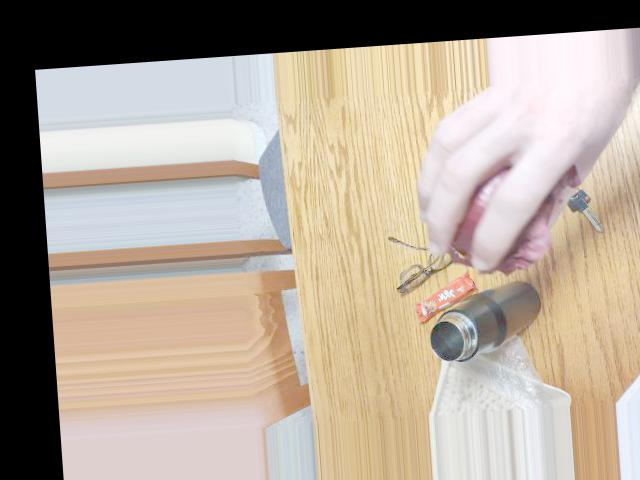onion: (436, 148, 574, 254)
